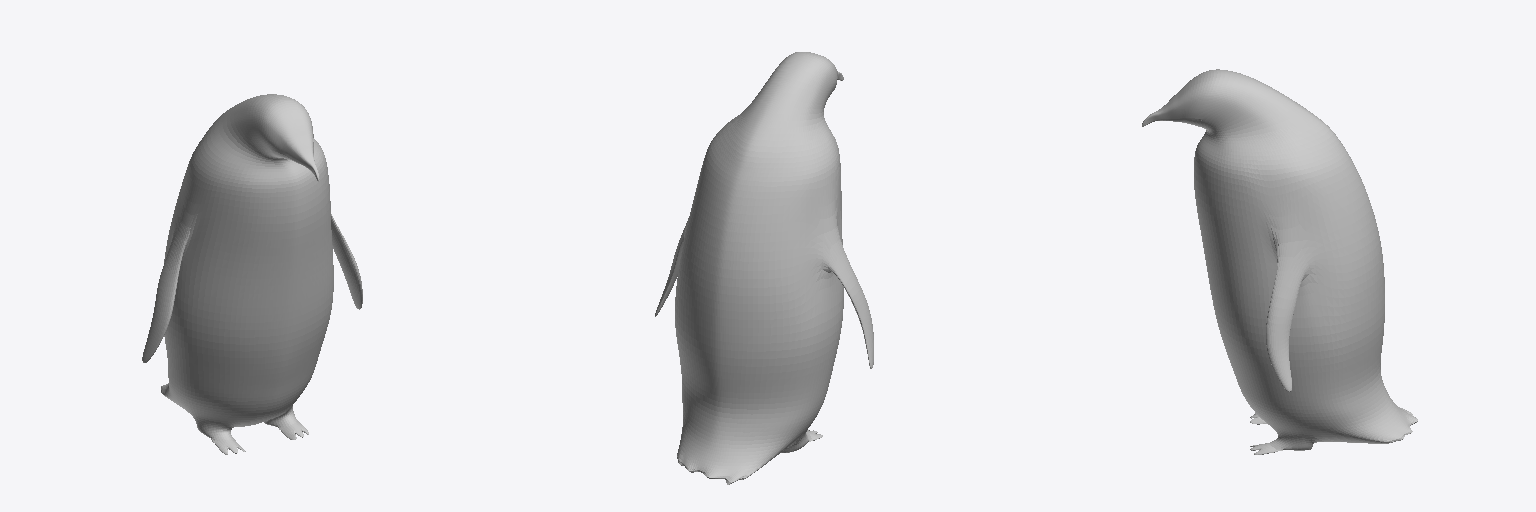
3 renders of one model, left to right at view 1: azimuth 30°, elevation 25°; view 2: azimuth 150°, elevation 25°; view 3: azimuth 270°, elevation 25°, orthographic.
Parts seen in each view (by area): view 1: Penguin; view 2: Penguin; view 3: Penguin.
Part boxes in pixels (x1,y1,x2,y2): Penguin: (142, 94, 362, 454); Penguin: (655, 52, 873, 484); Penguin: (1142, 69, 1417, 454).
Bounding box in the file's own units: 0.749 × 1.19 × 0.8263.